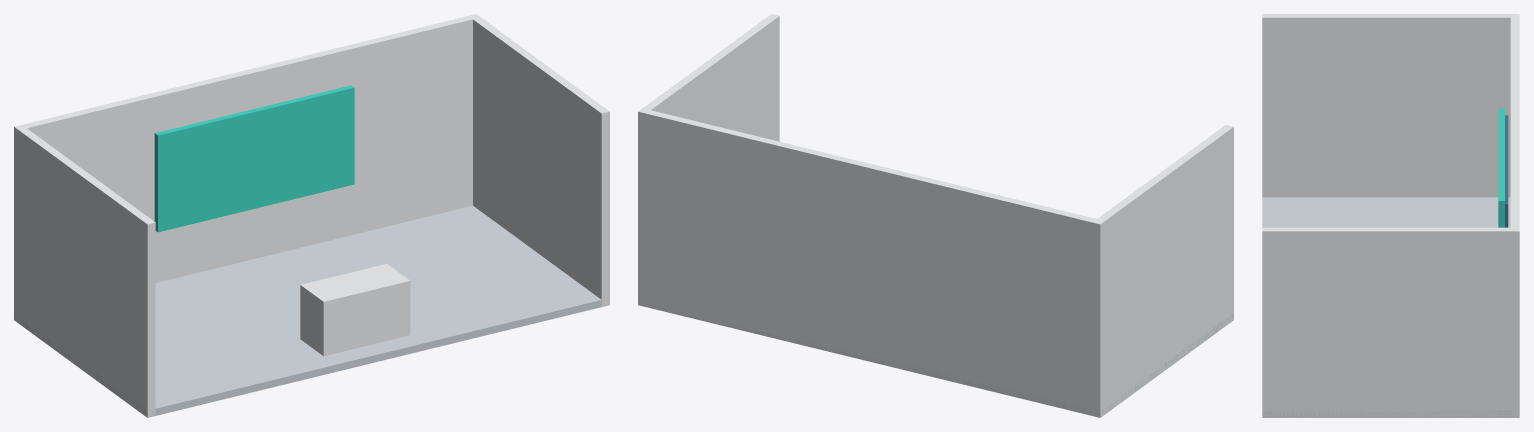
3 renders of one model, left to right at view 1: azimuth 30°, elevation 25°; view 2: azimuth 150°, elevation 25°; view 3: azimuth 270°, elevation 25°, orthographic. The views are drawn at different scales.
Parts seen in each view (by area): view 1: Exhibition Booth Concept; view 2: Exhibition Booth Concept; view 3: Exhibition Booth Concept.
Part boxes in pixels (bbox=[...]): Exhibition Booth Concept: bbox=[14, 14, 609, 417]; Exhibition Booth Concept: bbox=[638, 14, 1233, 417]; Exhibition Booth Concept: bbox=[1262, 14, 1519, 417].
Size of the model in its own units: 8 by 3.2 by 4.
